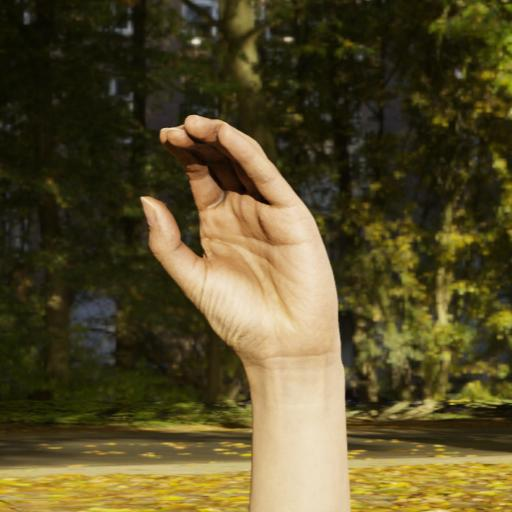C: (112, 72, 406, 438)
